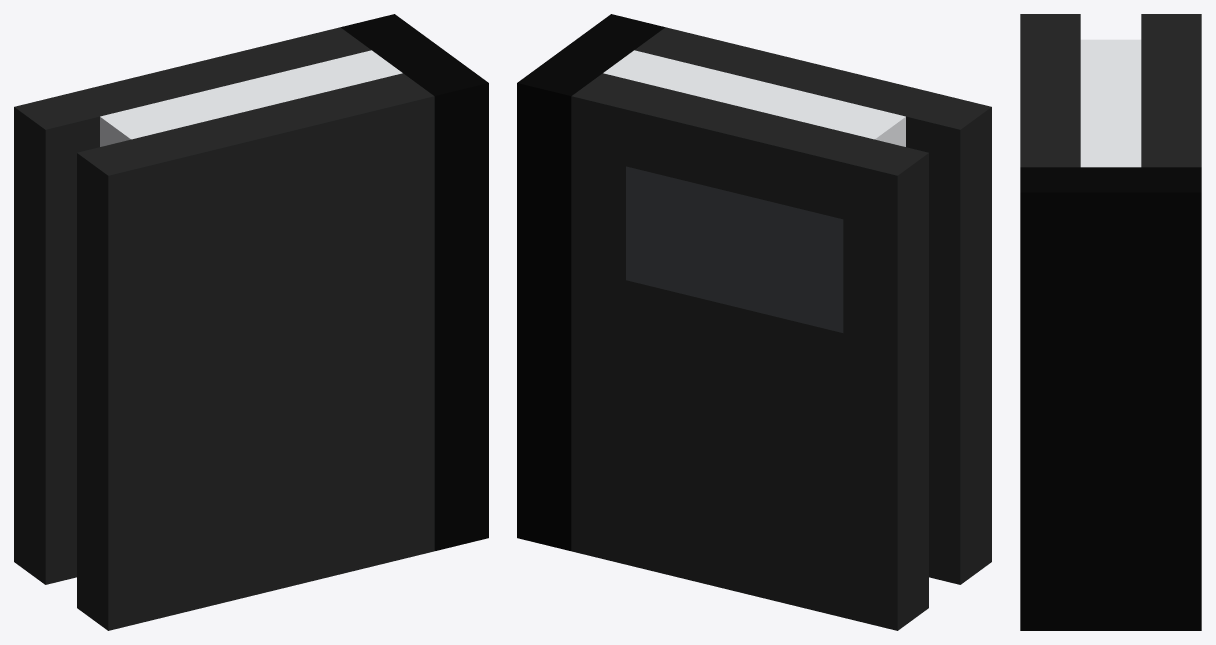
File: book-black.obj
3 renders of one model, left to right at view 1: azimuth 30°, elevation 25°; view 2: azimuth 150°, elevation 25°; view 3: azimuth 270°, elevation 25°, orthographic. The views are drawn at different scales.
Size of the model in its own units: 0.7 by 0.8 by 0.3.
Materials: 1 (1 with a texture image).
